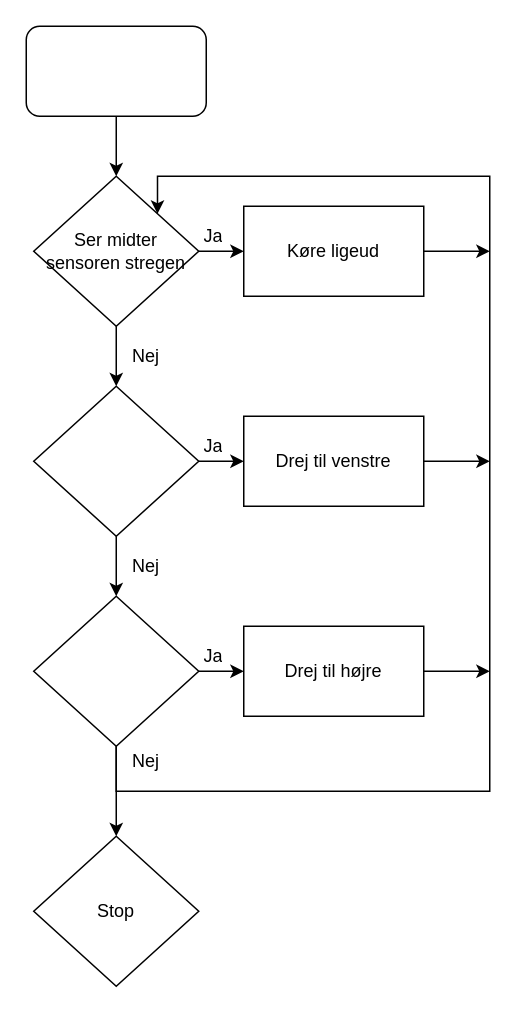
This 528x1013 diagram has some shape labels left out. Each missing label, with the box of its shape:
Initialiser program: (25, 25, 206, 116)
Ser højre sensor stregen: (32, 595, 199, 746)
Ser venstre sensor stregen: (32, 385, 199, 536)
